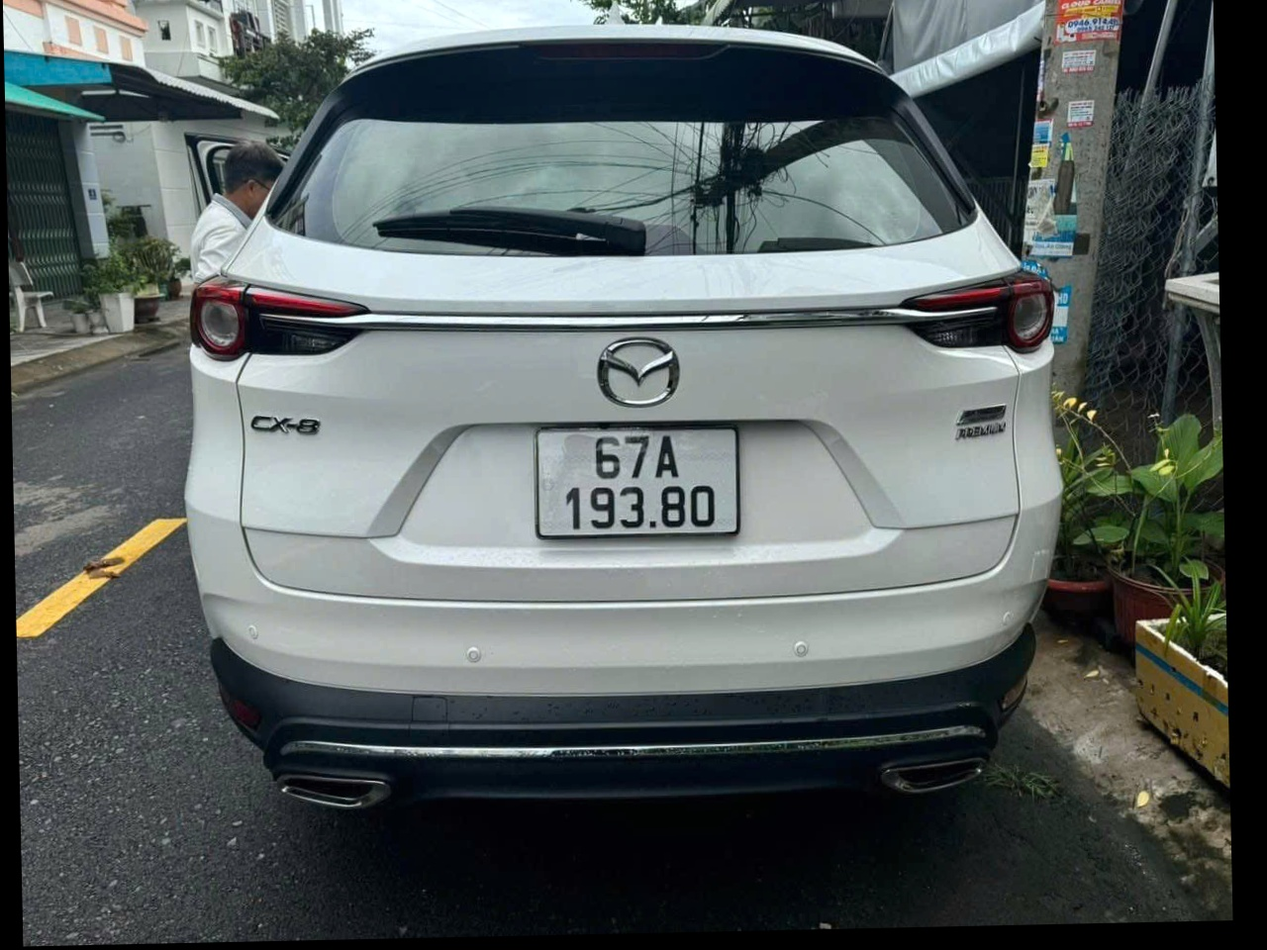Bien-so: (529, 420, 748, 546)
